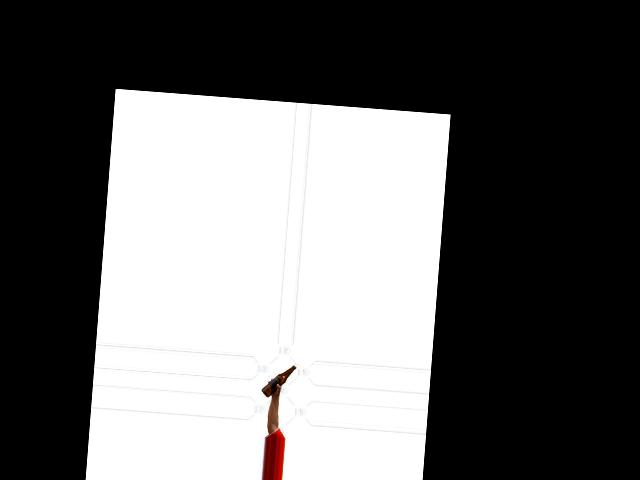beer: (260, 363, 295, 399)
